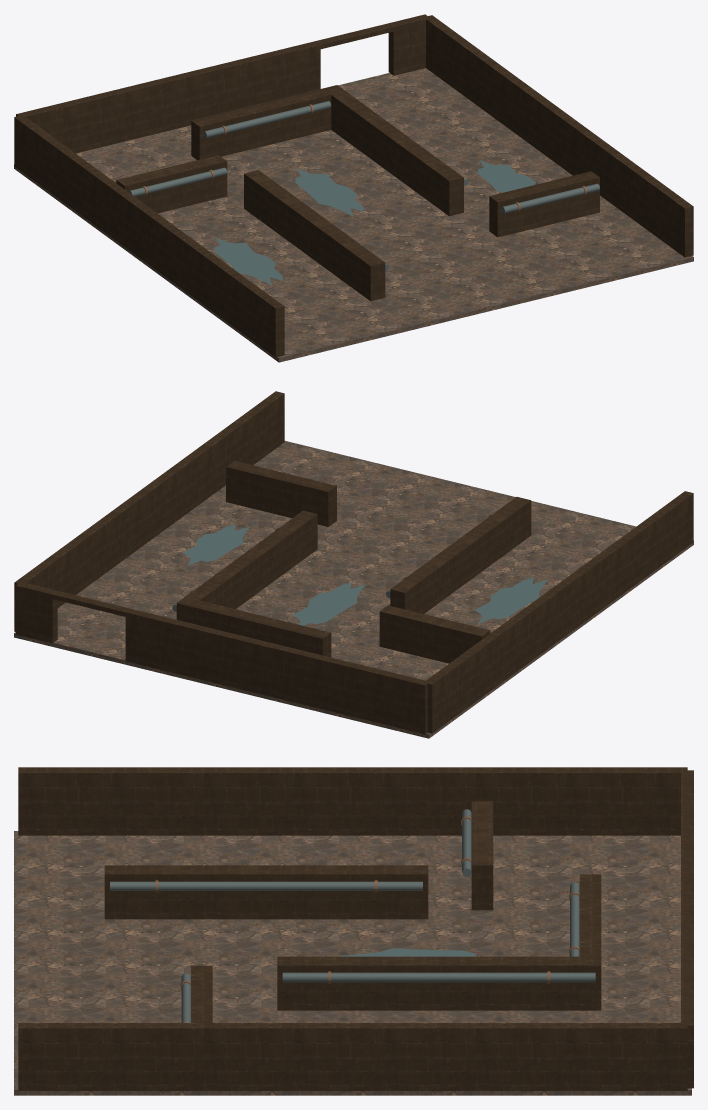
Rendered from pipe-network-rebuilt.glb.
3 views of the same model, one above another, from view 1: azimuth 30°, elevation 25°; view 2: azimuth 150°, elevation 25°; view 3: azimuth 270°, elevation 25° (orthographic). The views are drawn at different scales.
Parts seen in each view (by area): view 1: 磨损石板地面, 外围侧墙, 外围侧墙.001, 出口外墙左侧, 迷宫隔墙1, 迷宫隔墙2, 迷宫隔墙5, 迷宫隔墙4, 迷宫隔墙3, 出口外墙右侧, 浅积水, 浅积水.001 (+5 smaller); view 2: 磨损石板地面, 出口外墙左侧, 外围侧墙, 外围侧墙.001, 迷宫隔墙1, 迷宫隔墙2, 迷宫隔墙4, 迷宫隔墙3, 迷宫隔墙5, 出口外墙右侧, 浅积水, 浅积水.001 (+2 smaller); view 3: 磨损石板地面, 外围侧墙.001, 外围侧墙, 迷宫隔墙2, 迷宫隔墙1, 墙顶铸铁管.001, 墙顶铸铁管, 迷宫隔墙3, 出口外墙左侧, 迷宫隔墙5, 迷宫隔墙4, 浅积水.001 (+4 smaller).
Part boxes in pixels (x1=…): 磨损石板地面: x1=14, y1=68, x2=693, y2=362; 外围侧墙: x1=14, y1=115, x2=284, y2=357; 外围侧墙.001: x1=424, y1=15, x2=693, y2=257; 出口外墙左侧: x1=16, y1=41, x2=320, y2=153; 迷宫隔墙1: x1=244, y1=170, x2=385, y2=301; 迷宫隔墙2: x1=323, y1=85, x2=463, y2=216; 迷宫隔墙5: x1=191, y1=88, x2=331, y2=160; 迷宫隔墙4: x1=489, y1=171, x2=599, y2=237; 迷宫隔墙3: x1=116, y1=155, x2=227, y2=213; 出口外墙右侧: x1=388, y1=14, x2=428, y2=75; 浅积水: x1=214, y1=237, x2=282, y2=285; 浅积水.001: x1=295, y1=168, x2=363, y2=215; 磨损石板地面: x1=14, y1=441, x2=693, y2=738; 出口外墙左侧: x1=125, y1=609, x2=428, y2=734; 外围侧墙: x1=424, y1=491, x2=693, y2=733; 外围侧墙.001: x1=14, y1=391, x2=284, y2=631; 迷宫隔墙1: x1=390, y1=497, x2=531, y2=613; 迷宫隔墙2: x1=176, y1=510, x2=317, y2=623; 迷宫隔墙4: x1=226, y1=461, x2=336, y2=526; 迷宫隔墙3: x1=379, y1=605, x2=490, y2=663; 迷宫隔墙5: x1=191, y1=600, x2=331, y2=657; 出口外墙右侧: x1=16, y1=583, x2=57, y2=643; 浅积水: x1=474, y1=577, x2=548, y2=623; 浅积水.001: x1=292, y1=582, x2=365, y2=625; 磨损石板地面: x1=14, y1=831, x2=691, y2=1095; 外围侧墙.001: x1=18, y1=1023, x2=687, y2=1090; 外围侧墙: x1=18, y1=767, x2=687, y2=835; 迷宫隔墙2: x1=277, y1=956, x2=601, y2=1010; 迷宫隔墙1: x1=104, y1=865, x2=428, y2=919; 墙顶铸铁管.001: x1=282, y1=972, x2=595, y2=982; 墙顶铸铁管: x1=110, y1=881, x2=422, y2=890; 迷宫隔墙3: x1=471, y1=801, x2=493, y2=910; 出口外墙左侧: x1=681, y1=770, x2=693, y2=957; 迷宫隔墙5: x1=579, y1=874, x2=601, y2=956; 迷宫隔墙4: x1=191, y1=965, x2=212, y2=1022; 浅积水.001: x1=338, y1=948, x2=475, y2=956.
Bounding box in the file's own units: 28.6 × 3.48 × 31.5.
Materials: 5 (2 with a texture image).
